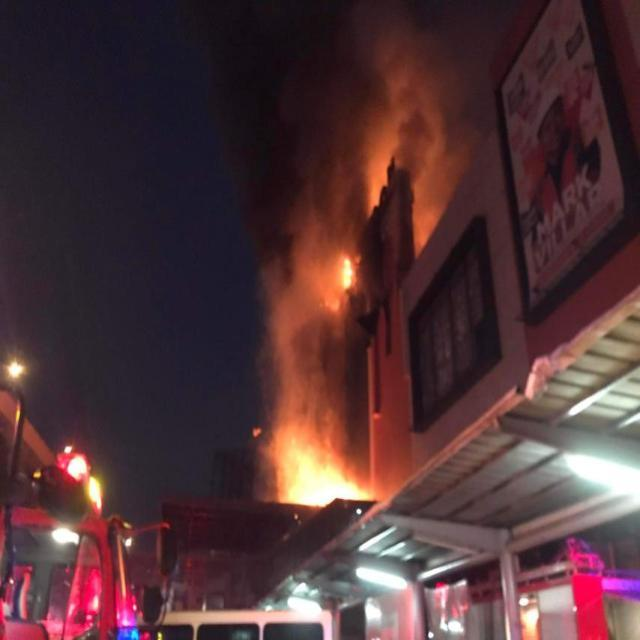Fire: (266, 416, 370, 504), (324, 257, 368, 314)
Smoke: (206, 3, 364, 220), (377, 3, 483, 150), (270, 301, 372, 448), (248, 188, 332, 334)
